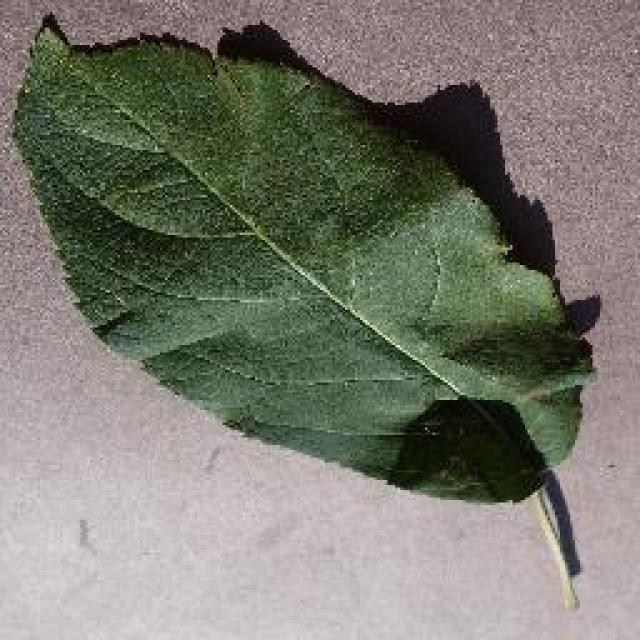apple healthy: (8, 8, 600, 610)
